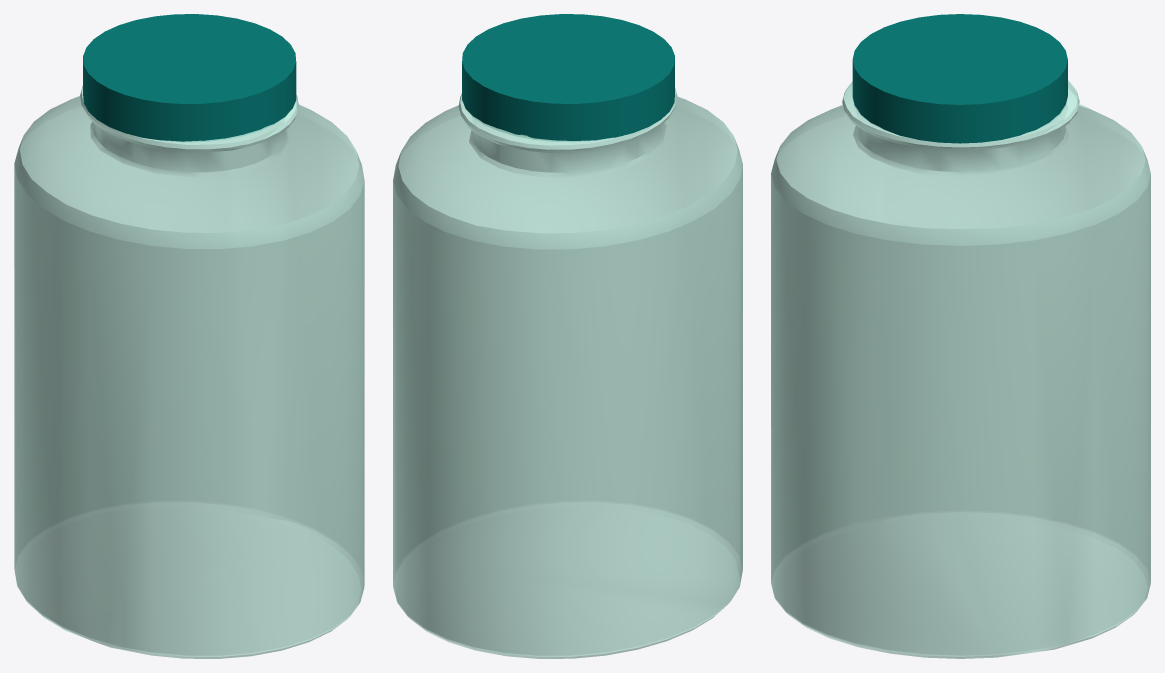
The model's file is PillsBottleEmpty.fbx.
3 views of the same model, side by side, from view 1: azimuth 30°, elevation 25°; view 2: azimuth 150°, elevation 25°; view 3: azimuth 270°, elevation 25° (orthographic).
Parts seen in each view (by area): view 1: Circle.001; view 2: Circle.001; view 3: Circle.001.
Boxes of the visible parts, bbox=[...] form: Circle.001: bbox=[14, 14, 364, 658]; Circle.001: bbox=[393, 14, 742, 658]; Circle.001: bbox=[771, 14, 1150, 658].
Bounding box in the file's own units: 0.7836 × 1.33 × 0.8669.
